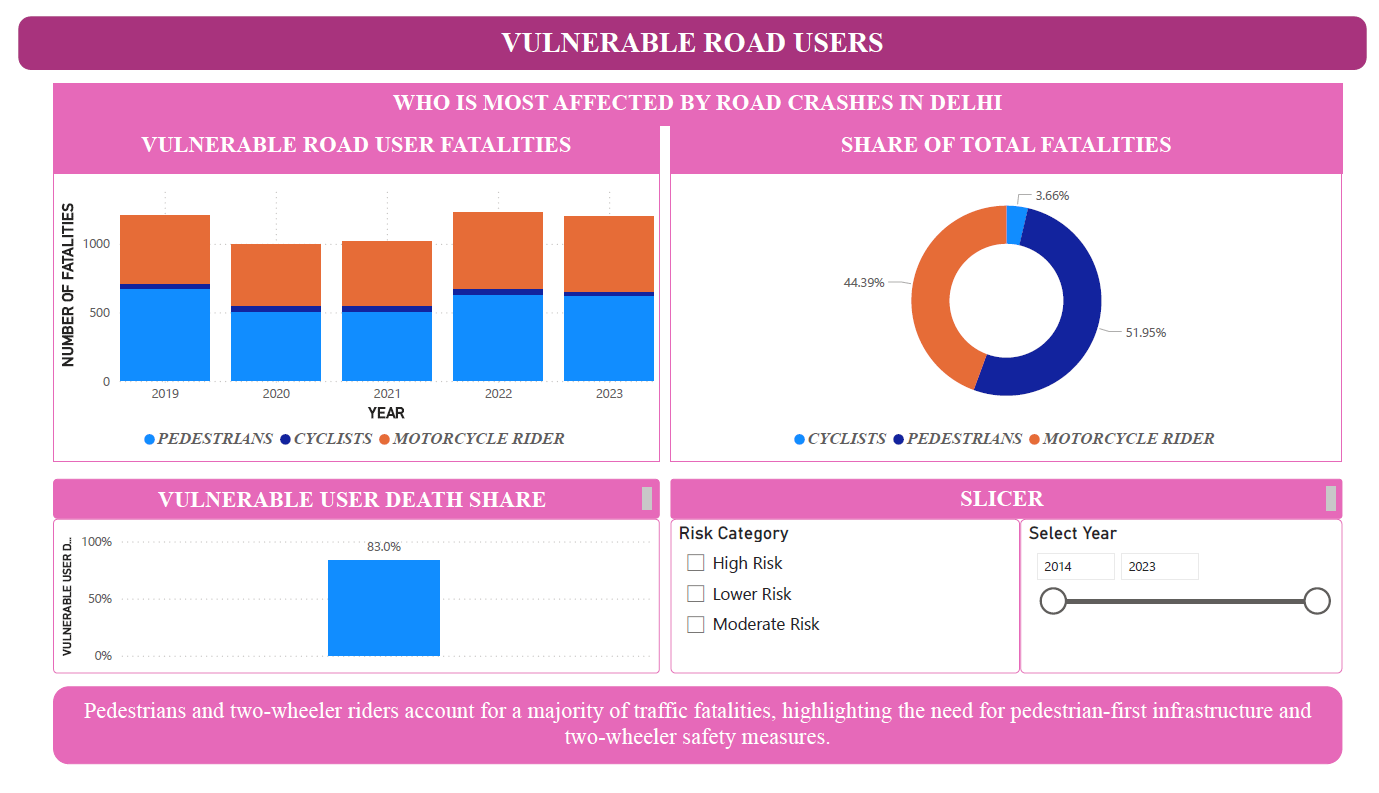

The page's visual inventory and layout, read from the dashboard file:
{"tool":"powerbi","page":{"name":"Page 3","canvas":[1280,720],"ordinal":2},"visuals":[{"type":"textbox","box":[32.9,635.7,1224.3,74.3],"z":0},{"type":"textbox","box":[0,0,1280,51.4],"z":1000},{"type":"textbox","box":[32.9,64.3,1224.3,40],"z":2000},{"type":"columnChart","fields":{"Category":["master_yearly_with_clusters.year"],"Y":["Sum(master_yearly_with_clusters.pedestrian_killed)","Sum(master_yearly_with_clusters.cyclists_killed)","Sum(master_yearly_with_clusters.scooter_motorcycle_riders_killed)"]},"box":[32.9,148.6,575.7,274.3],"z":3000},{"type":"donutChart","fields":{"Y":["Sum(master_yearly_with_clusters.cyclists_killed)","Sum(master_yearly_with_clusters.pedestrian_killed)","Sum(master_yearly_with_clusters.scooter_motorcycle_riders_killed)"]},"box":[618.6,148.6,638.6,274.3],"z":4000},{"type":"clusteredColumnChart","fields":{"Y":["master_yearly_with_clusters.Vulnerable User Death %"]},"box":[32.9,477.1,575.7,147.1],"z":5000},{"type":"slicer","title":"Risk Category","fields":{"Values":["master_yearly_with_clusters.risk_category"]},"box":[618.6,477.1,332.9,147.1],"z":6000},{"type":"slicer","title":"Select Year","fields":{"Values":["master_yearly_with_clusters.year"]},"box":[951.4,477.1,305.7,147.1],"z":7000},{"type":"textbox","box":[32.9,104.3,575.7,44.3],"z":8000},{"type":"textbox","box":[618.6,104.3,638.6,44.3],"z":9000},{"type":"textbox","box":[32.9,438.6,575.7,38.6],"z":10000},{"type":"textbox","box":[618.6,438.6,638.6,38.6],"z":11000}]}

Visuals, with their boxes in screenshot pixels (x1, y1, x2, y2), scaled from the page's 1280x720 canvas onto the 1379x793 screenshot:
textbox: box(35, 700, 1354, 782)
textbox: box(0, 0, 1378, 57)
textbox: box(35, 71, 1354, 115)
columnChart - master_yearly_with_clusters.year x Sum(master_yearly_with_clusters.pedestrian_killed): box(35, 164, 656, 466)
donutChart - Sum(master_yearly_with_clusters.cyclists_killed) x Sum(master_yearly_with_clusters.pedestrian_killed): box(666, 164, 1354, 466)
clusteredColumnChart - master_yearly_with_clusters.Vulnerable User Death %: box(35, 525, 656, 687)
"Risk Category" slicer: box(666, 525, 1025, 687)
"Select Year" slicer: box(1025, 525, 1354, 687)
textbox: box(35, 115, 656, 164)
textbox: box(666, 115, 1354, 164)
textbox: box(35, 483, 656, 526)
textbox: box(666, 483, 1354, 526)
